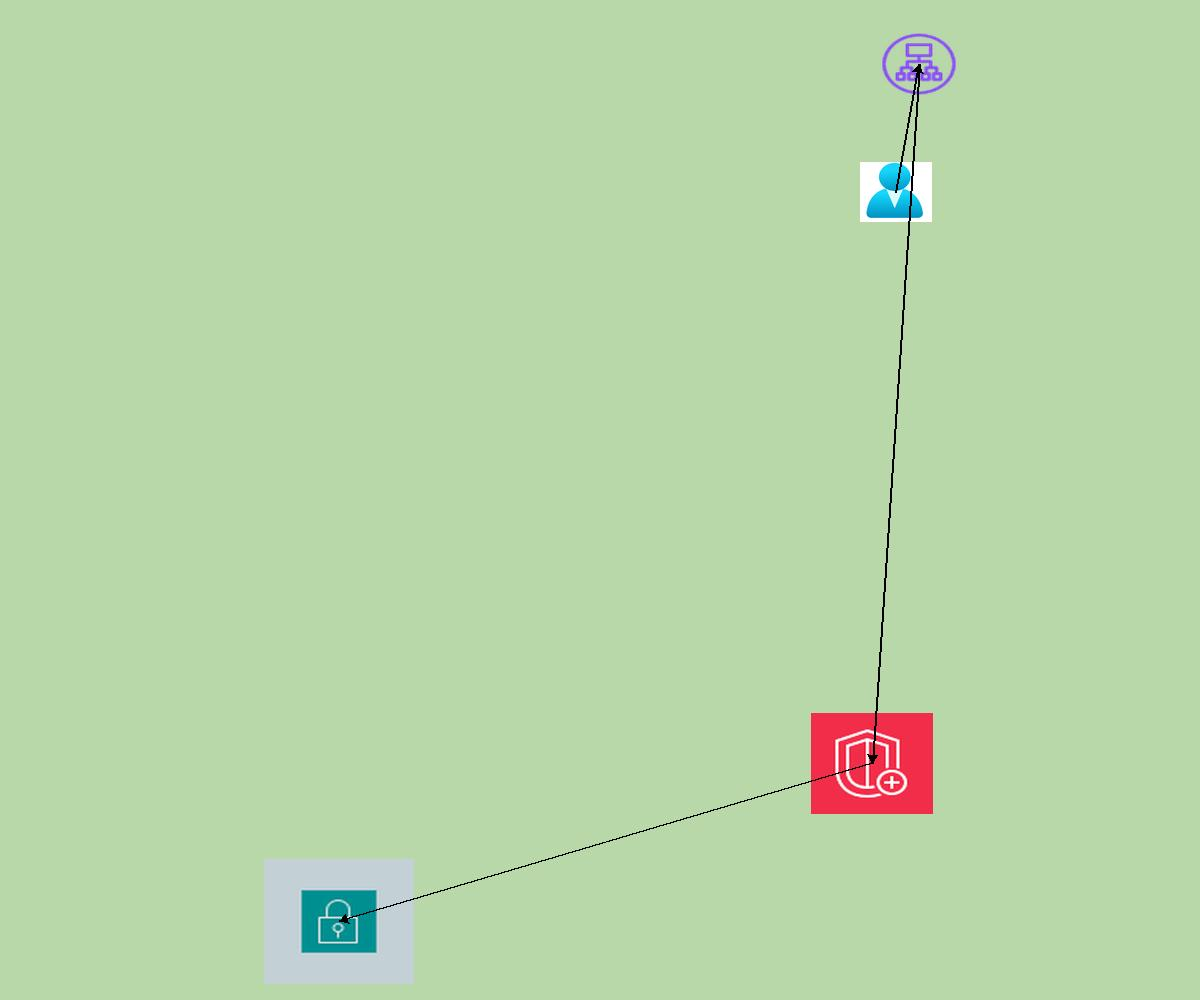AWS-Private-subnet: (264, 859, 414, 984)
AWS-Res_Elastic-Load-Balancing_Application-Load-Balancer: (879, 31, 959, 97)
AWS-Shield: (811, 713, 933, 814)
Azure_users: (860, 162, 932, 222)
